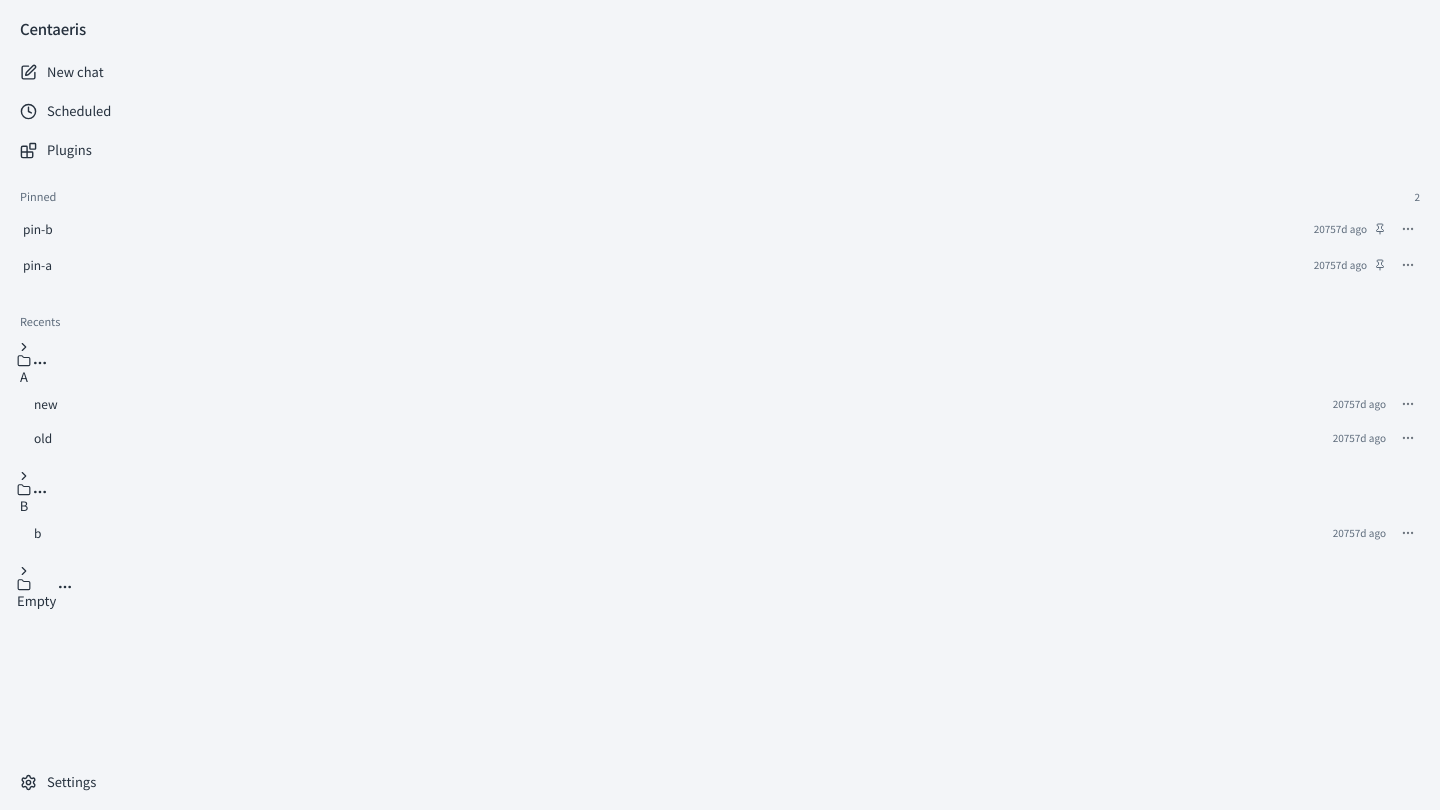
Test: pending removal leaves the title stable and usable, and a failed result can be retried
Click the button named "Workspace actions A" at (40, 363), box x1=32 y1=355 x2=48 y2=371
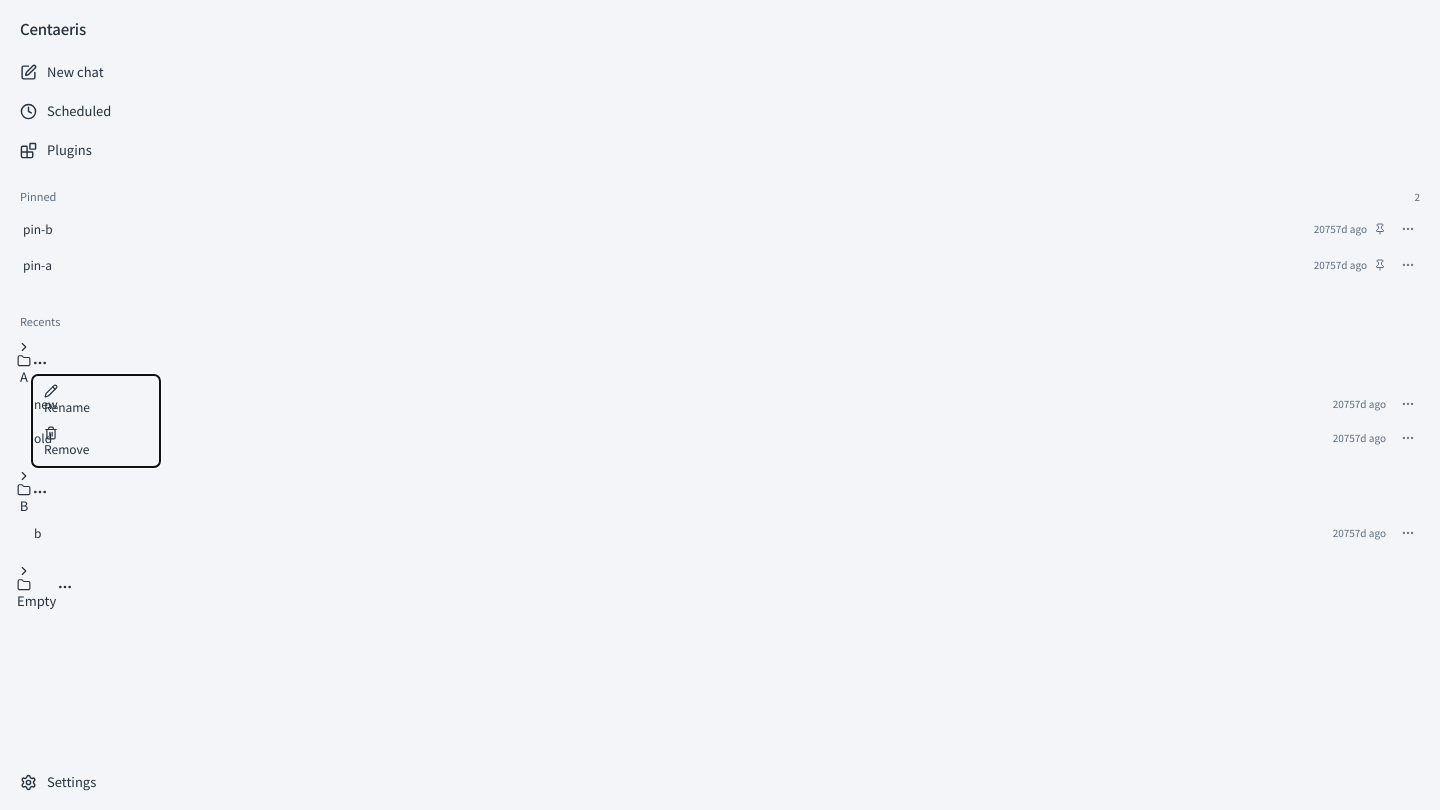
Click the menu item "Remove" at (67, 441), box x1=44 y1=426 x2=89 y2=456
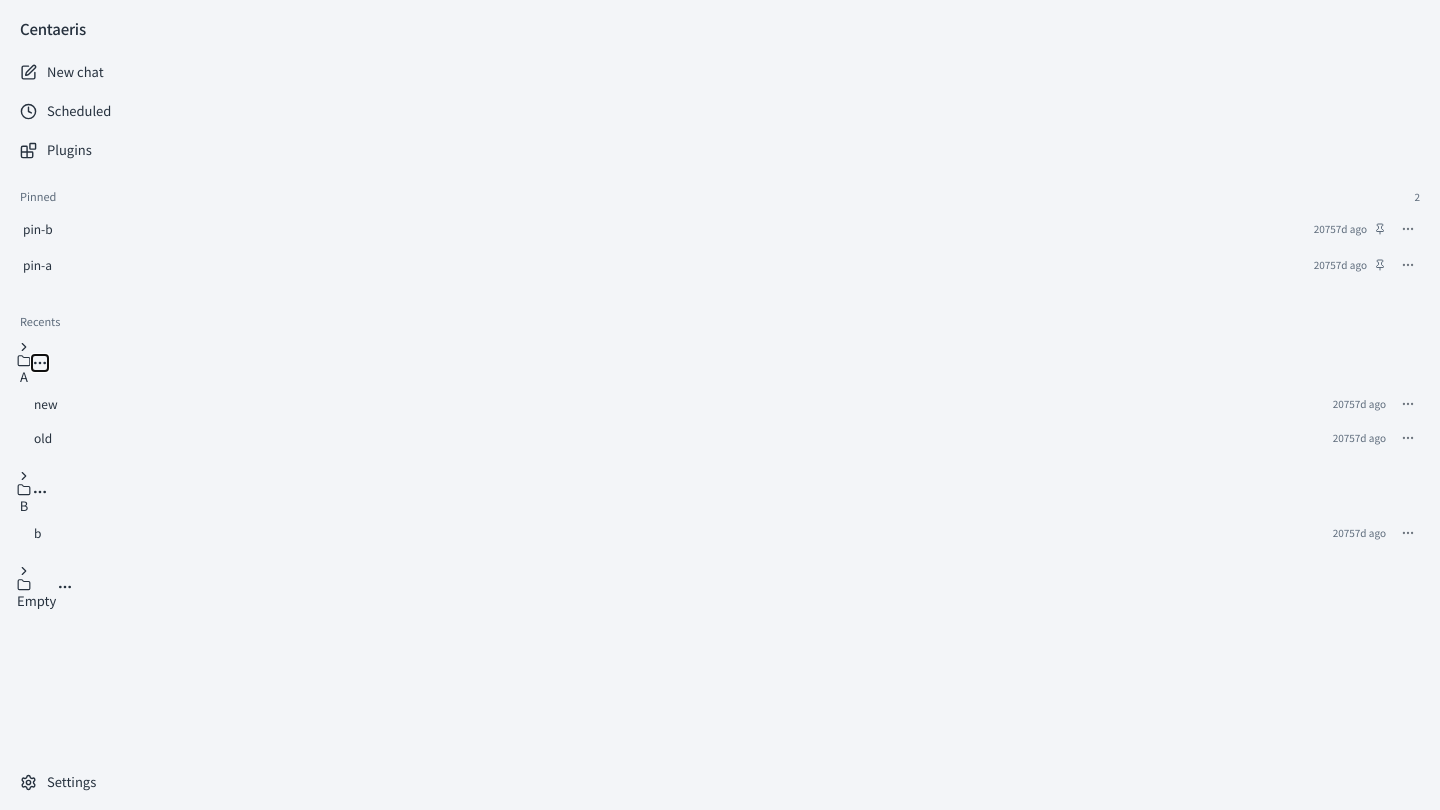
Click the button "A" at (24, 363), box x1=17 y1=340 x2=31 y2=387
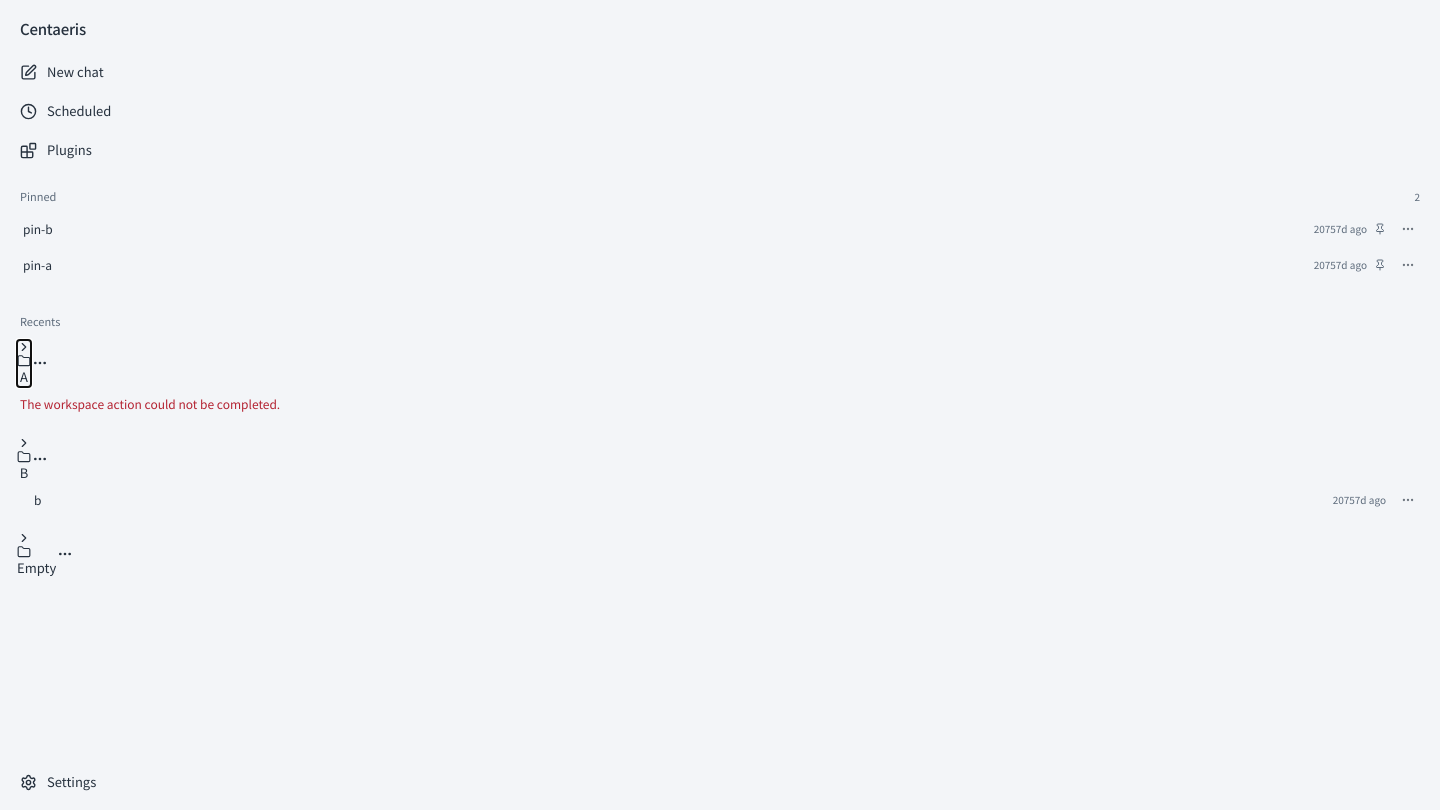
Check: the text "A" is shown, box x1=20 y1=369 x2=28 y2=385
Check: the button named "Toggle A" is collapsed, box x1=17 y1=340 x2=31 y2=387
Check: the message reads "The workspace action could not be completed.", box x1=20 y1=397 x2=280 y2=411
Click the button named "Workspace actions A" at (40, 363), box x1=32 y1=355 x2=48 y2=371
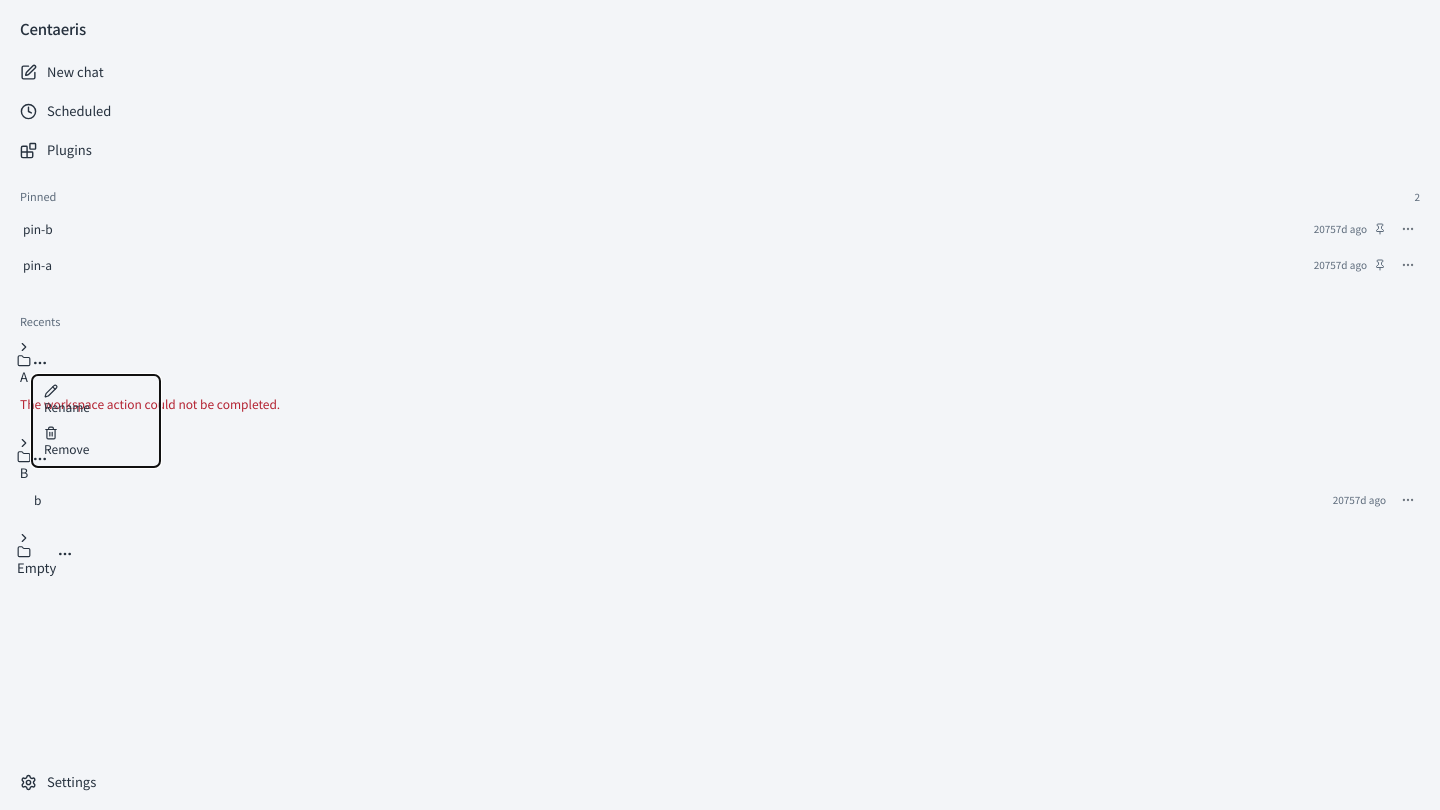
Click the menu item "Remove" at (67, 441), box x1=44 y1=426 x2=89 y2=456
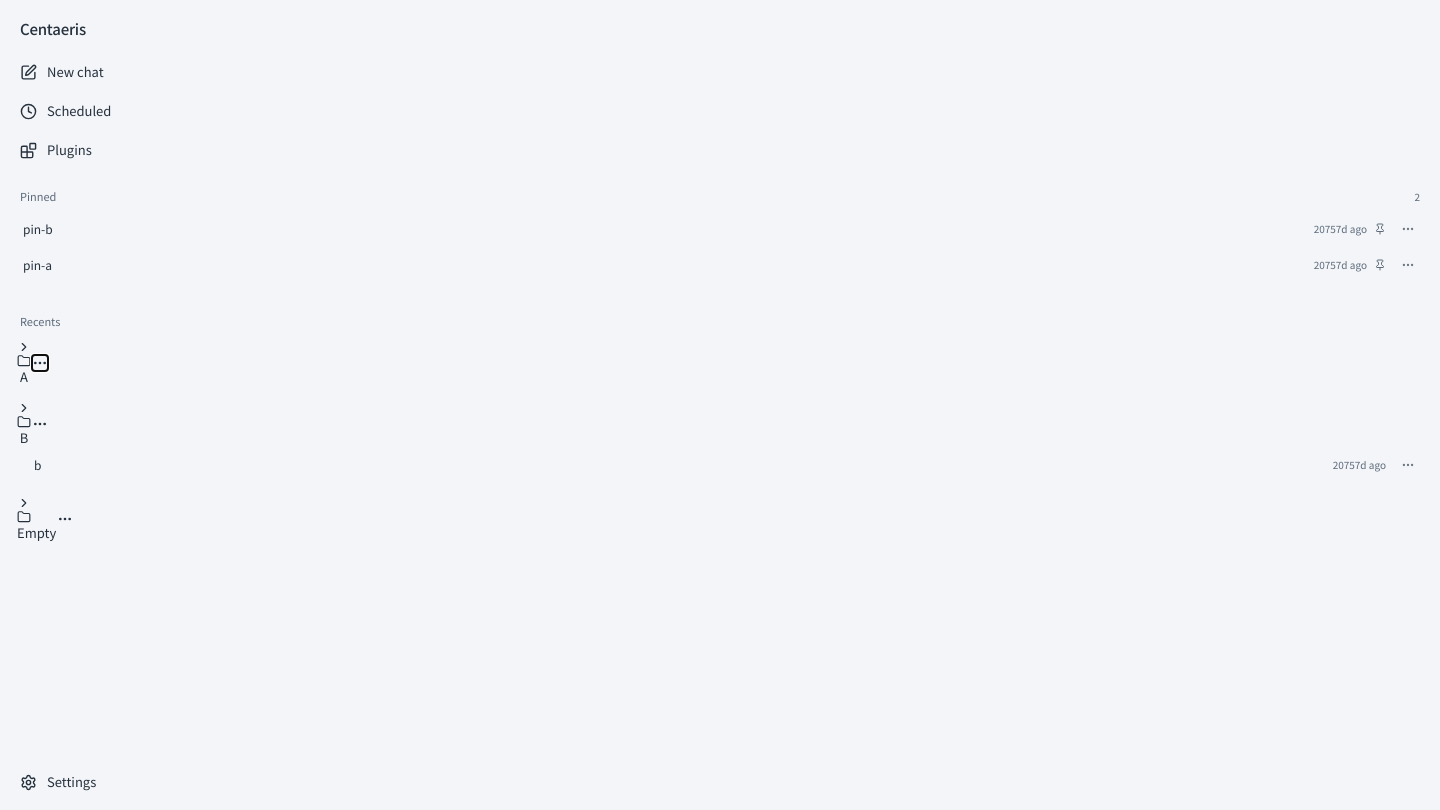
Check: the message "The workspace action could not be completed." is gone
